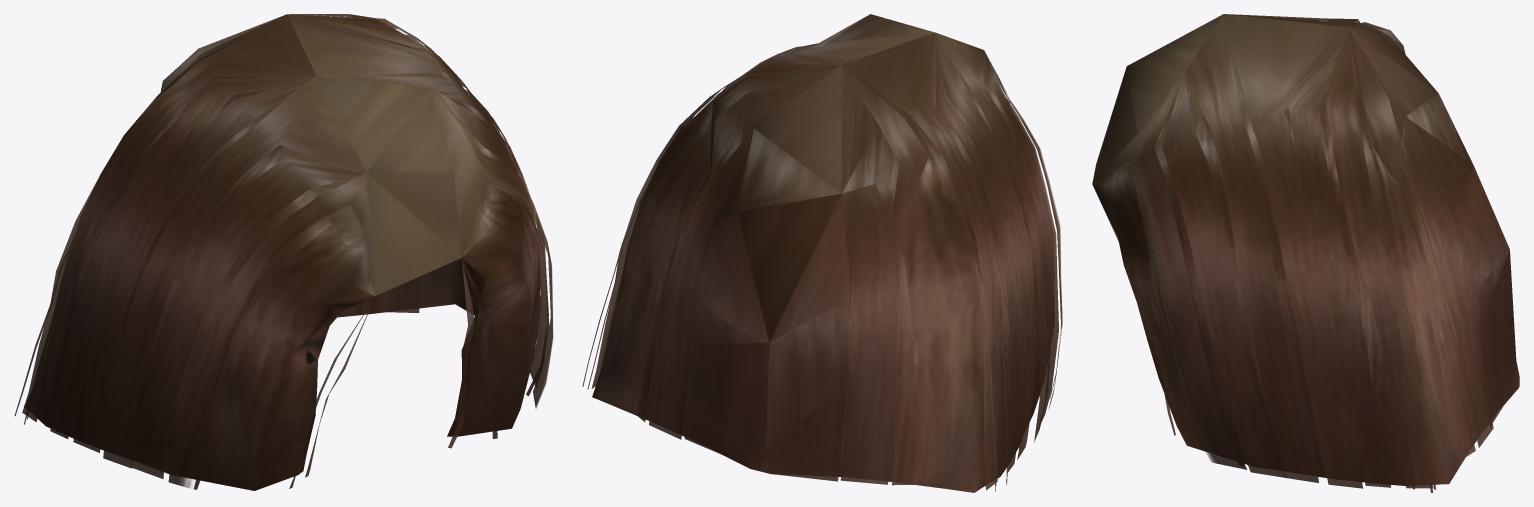
File: short-asian.glb
3 renders of one model, left to right at view 1: azimuth 30°, elevation 25°; view 2: azimuth 150°, elevation 25°; view 3: azimuth 270°, elevation 25°, orthographic. The views are drawn at different scales.
Parts seen in each view (by area): view 1: hair_short; view 2: hair_short; view 3: hair_short.
Boxes of the visible parts, x1,y1,x2,y2 form: hair_short: [14, 14, 553, 490]; hair_short: [582, 14, 1062, 492]; hair_short: [1092, 14, 1519, 492].
Size of the model in its own units: 0.2649 by 0.2089 by 0.2273.
Materials: 1 (1 with a texture image).
